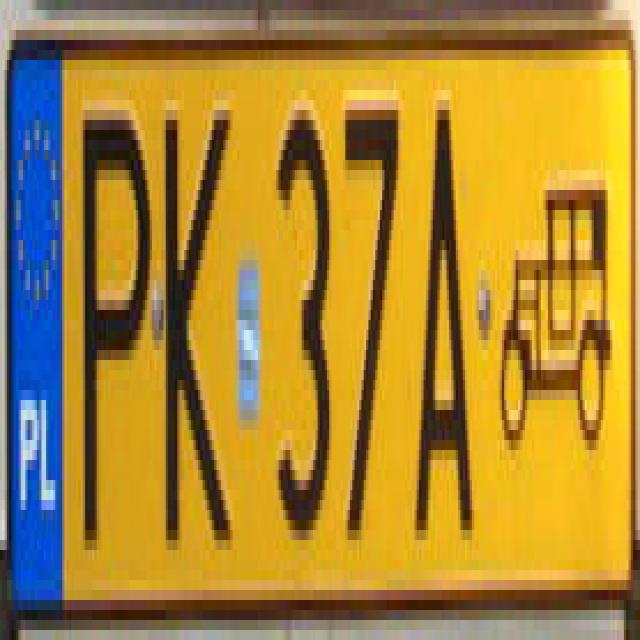pl_license_plate: (4, 30, 630, 580)
